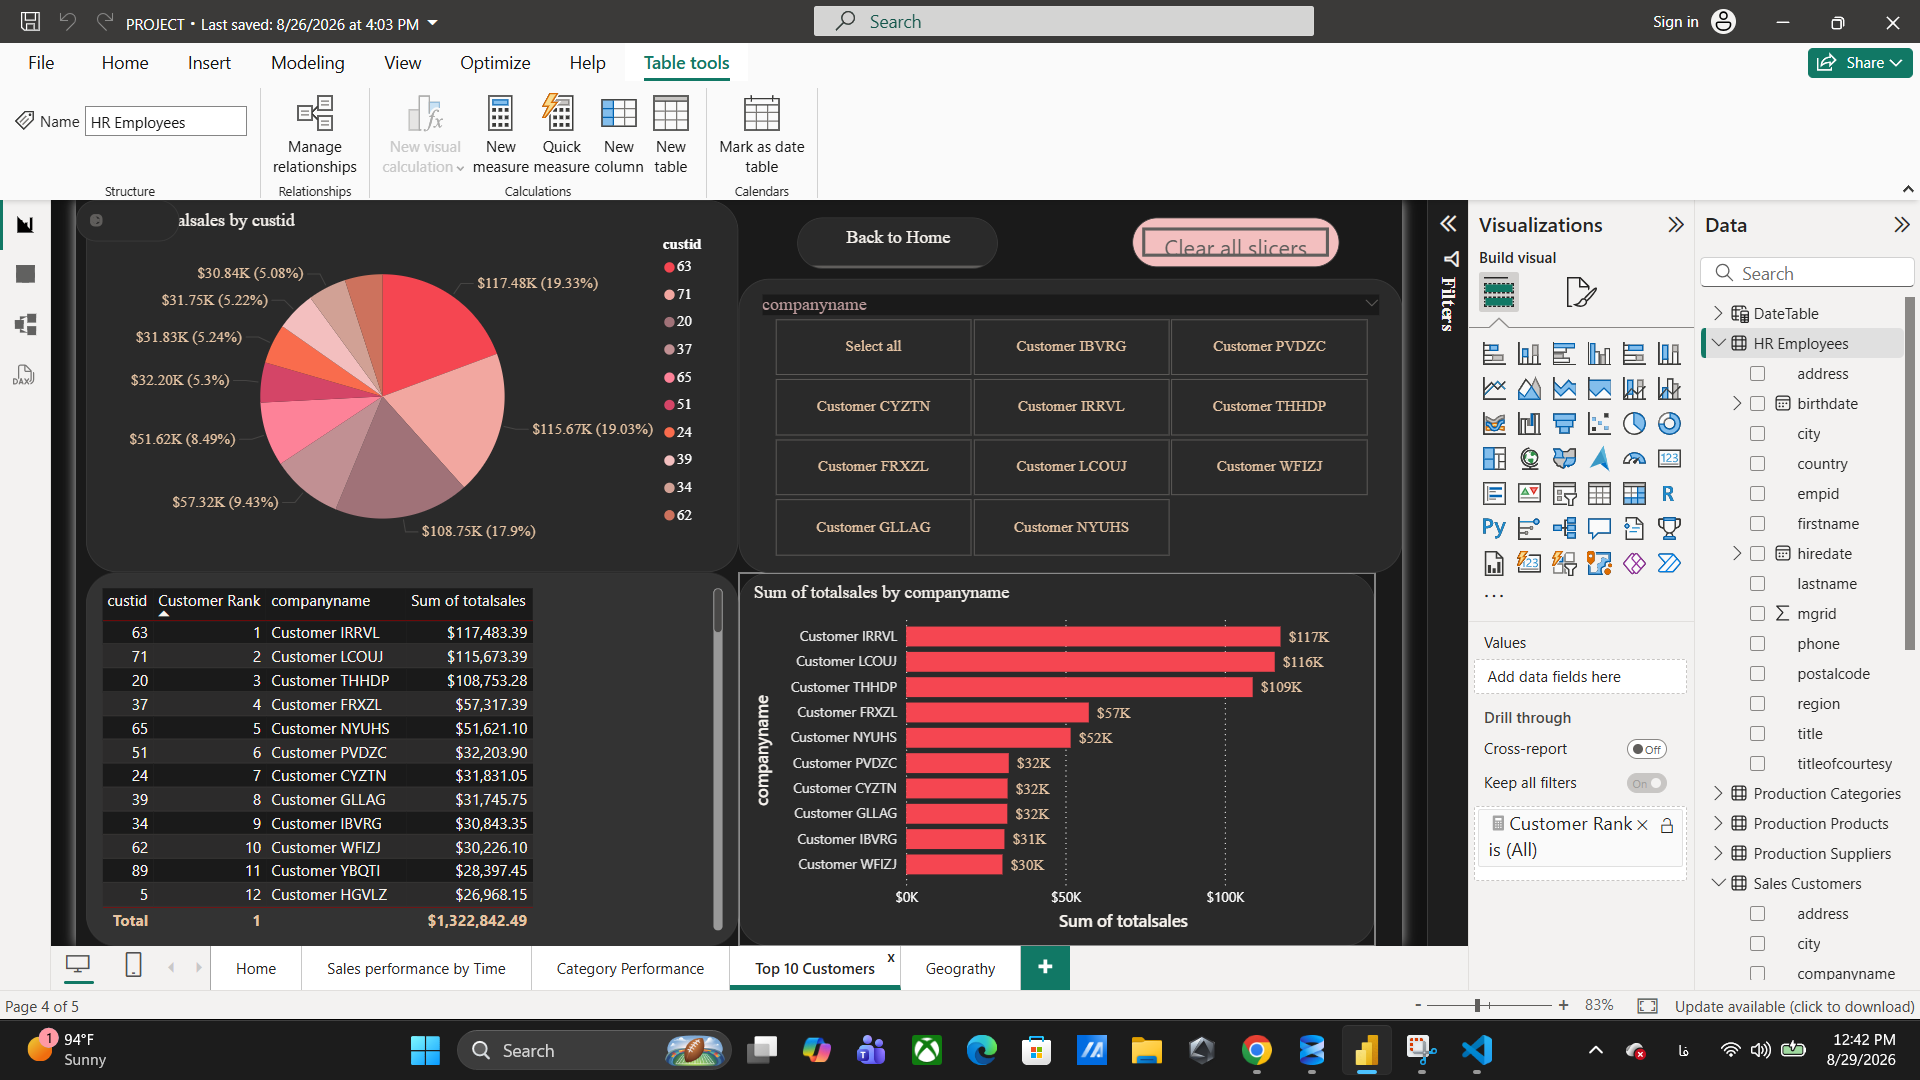

The page's visual inventory and layout, read from the dashboard file:
{"tool":"powerbi","page":{"name":"Top 10 Customers","canvas":[1280,720],"ordinal":3},"visuals":[{"type":"pieChart","fields":{"Y":["Sum(Sales OrderDetails.totalsales)"],"Category":["Sales Orders.custid"]},"box":[9.6,0,629.8,359.5],"z":0},{"type":"clusteredBarChart","fields":{"Category":["Sales Customers.companyname"],"Y":["Sum(Sales OrderDetails.totalsales)"]},"box":[639.5,359.5,614.8,360.9],"z":1000},{"type":"tableEx","fields":{"Values":["Sales Customers.custid","Sales Customers.Customer Rank","Sales Customers.companyname","Sum(Sales OrderDetails.totalsales)"]},"box":[9.6,359.5,629.8,360.9],"z":2000},{"type":"slicer","fields":{"Values":["Sales Customers.companyname"]},"box":[639.5,75.5,640.8,284],"z":3000},{"type":"actionButton","box":[1019.4,16.9,200.3,48.3],"z":4000},{"type":"actionButton","title":"Back to Home","box":[695.7,16.5,193.5,49.4],"z":5000}]}

Visuals, with their boxes on the page's 1280x720 design canvas (x1, y1, x2, y2). These are canvas units, not pixel positions in the 1920x1080 screenshot, which may show the page scaled, cropped or inside an application window:
pieChart - Sum(Sales OrderDetails.totalsales) x Sales Orders.custid: bbox=[10, 0, 639, 360]
clusteredBarChart - Sales Customers.companyname x Sum(Sales OrderDetails.totalsales): bbox=[640, 360, 1254, 720]
tableEx - Sales Customers.custid x Sales Customers.Customer Rank: bbox=[10, 360, 639, 720]
slicer - Sales Customers.companyname: bbox=[640, 76, 1280, 360]
actionButton: bbox=[1019, 17, 1220, 65]
"Back to Home" actionButton: bbox=[696, 16, 889, 66]
